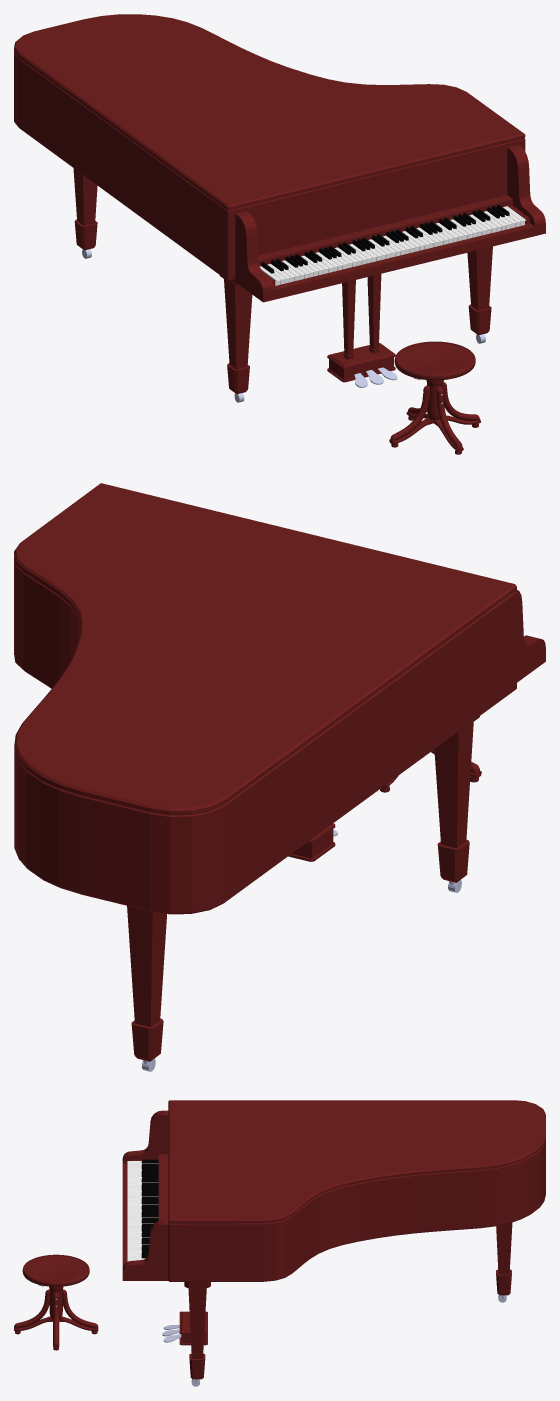
File: piano with chair.fbx
3 views of the same model, one above another, from view 1: azimuth 30°, elevation 25°; view 2: azimuth 150°, elevation 25°; view 3: azimuth 270°, elevation 25° (orthographic). The views are drawn at different scales.
Visible parts, largest first — view 1: Layer:PIANO_MAIN, Layer:PIANO_W_KEYS, uploads_files_147002_Piano_chair (×2), Layer:PIANO_B_KEYS, Layer:PIANO_BRASS; view 2: Layer:PIANO_MAIN; view 3: Layer:PIANO_MAIN, uploads_files_147002_Piano_chair (×2), Layer:PIANO_W_KEYS, Layer:PIANO_B_KEYS, Layer:PIANO_BRASS.
Part boxes in pixels (box(x1,y1,x2,y2)): Layer:PIANO_MAIN: box(14, 14, 545, 393); Layer:PIANO_W_KEYS: box(260, 206, 526, 285); uploads_files_147002_Piano_chair (×2): box(394, 341, 475, 380); Layer:PIANO_B_KEYS: box(261, 205, 509, 273); Layer:PIANO_BRASS: box(82, 249, 485, 402); Layer:PIANO_MAIN: box(14, 483, 545, 1061); Layer:PIANO_MAIN: box(122, 1100, 545, 1379); uploads_files_147002_Piano_chair (×2): box(22, 1254, 89, 1286); Layer:PIANO_W_KEYS: box(127, 1161, 158, 1261); Layer:PIANO_B_KEYS: box(141, 1159, 158, 1258); Layer:PIANO_BRASS: box(162, 1295, 506, 1386).
Bounding box in the file's own units: 17.18 × 11.81 × 32.11.
